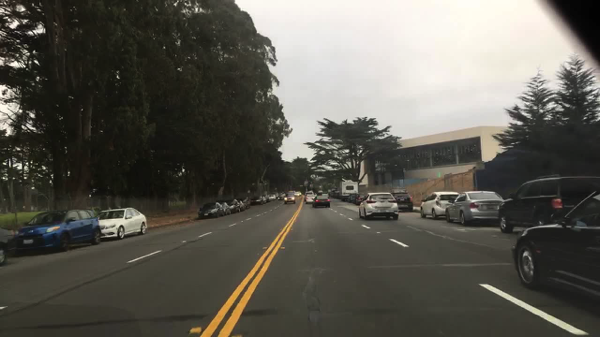car: (513, 189, 599, 313), (497, 175, 599, 236), (12, 209, 102, 255), (444, 190, 505, 226), (99, 208, 147, 239), (358, 193, 399, 220), (420, 192, 460, 219), (198, 201, 223, 221), (392, 190, 414, 212), (313, 196, 329, 209), (1, 241, 8, 268), (354, 193, 367, 206), (285, 191, 295, 204), (221, 202, 230, 216), (305, 194, 316, 205), (231, 199, 239, 214), (322, 198, 337, 206), (252, 197, 265, 206), (239, 202, 246, 213), (329, 190, 338, 197), (278, 193, 285, 201), (342, 194, 349, 202), (348, 195, 355, 203), (335, 193, 342, 200), (270, 194, 278, 200), (245, 200, 250, 209), (295, 191, 301, 198), (267, 196, 272, 204), (321, 192, 329, 196), (305, 191, 314, 193)
truck: (339, 179, 359, 194)
